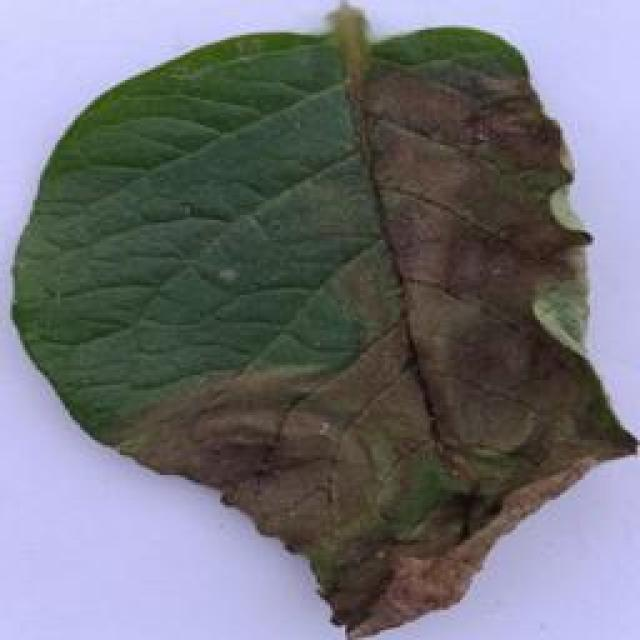Potato_Late_Blight: (10, 10, 625, 636)
